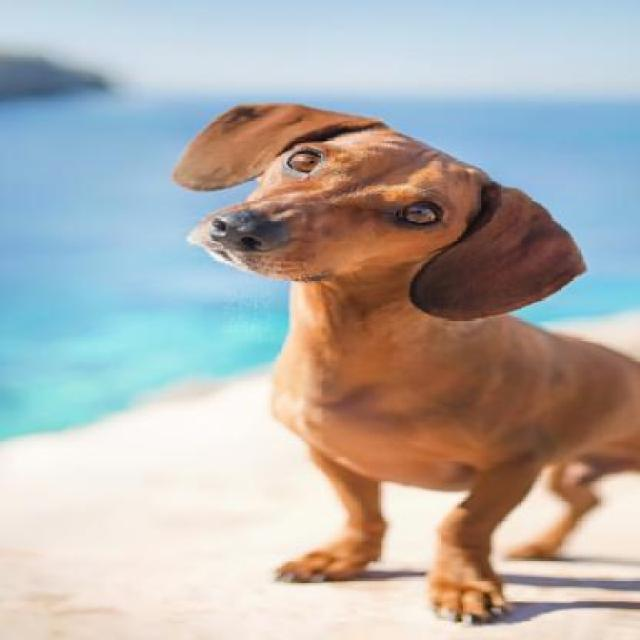Dog: (166, 100, 639, 629)
